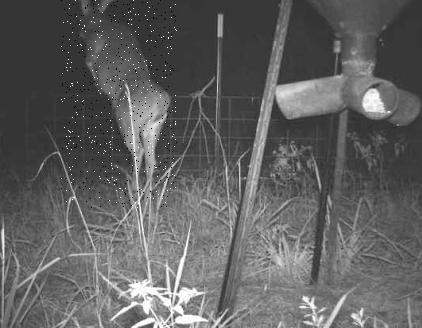Deer: (61, 0, 177, 208)
